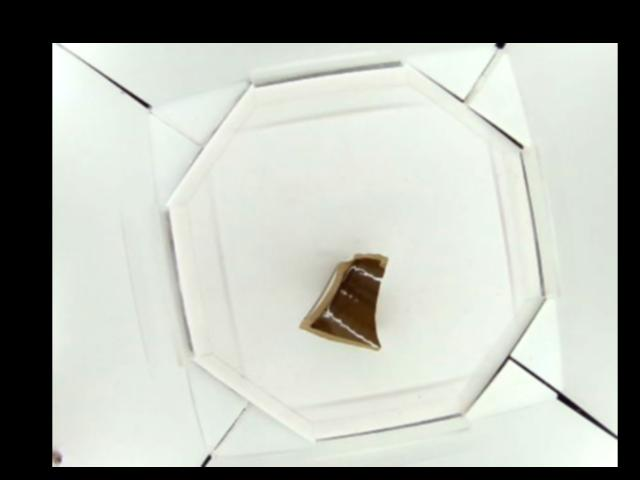China: (297, 251, 387, 348)
